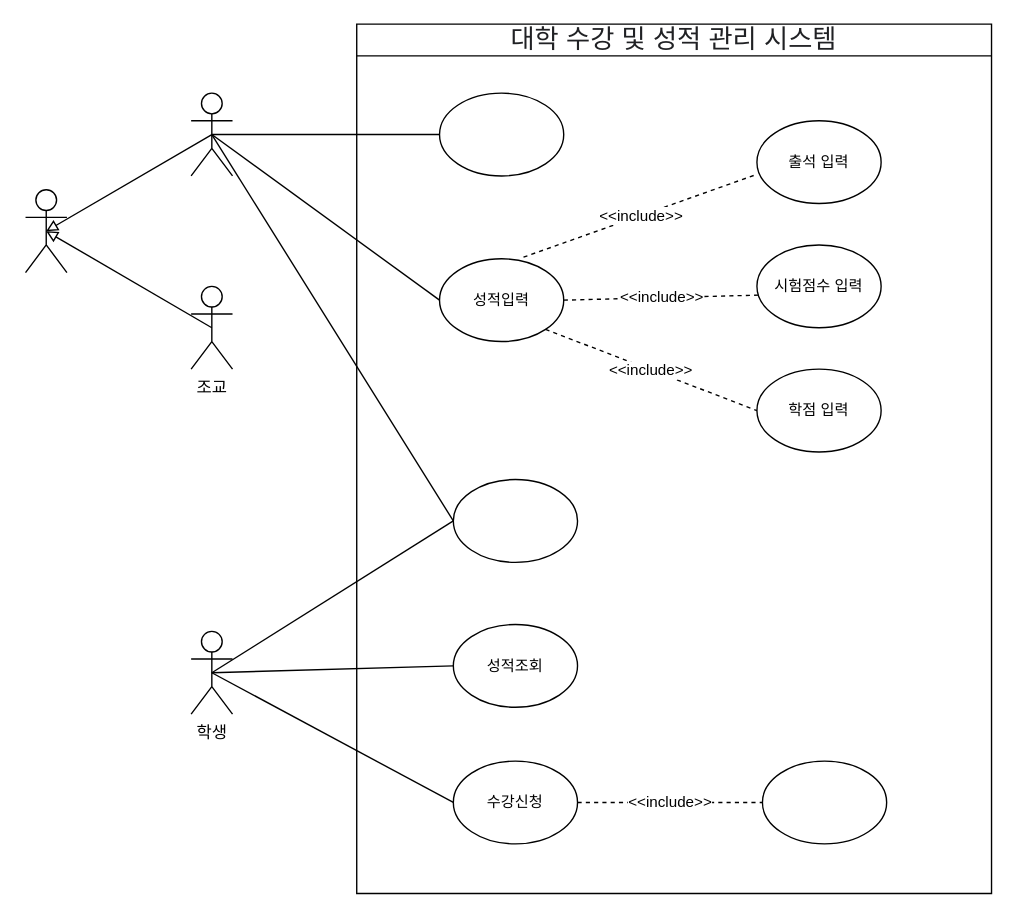
The diagram is 1016 pixels wide and 918 high, and some of its shapes have lost their labels. Here are the shapes that lost their labels. From the top down, the box of each, then its label:
(190, 92, 233, 176): 교수
(438, 92, 564, 176): 강의 계획서 등록
(24, 188, 67, 273): 교직원
(452, 478, 578, 562): 강의 계획서 조회
(761, 760, 887, 844): 잔여 수강가능 인원 확인
